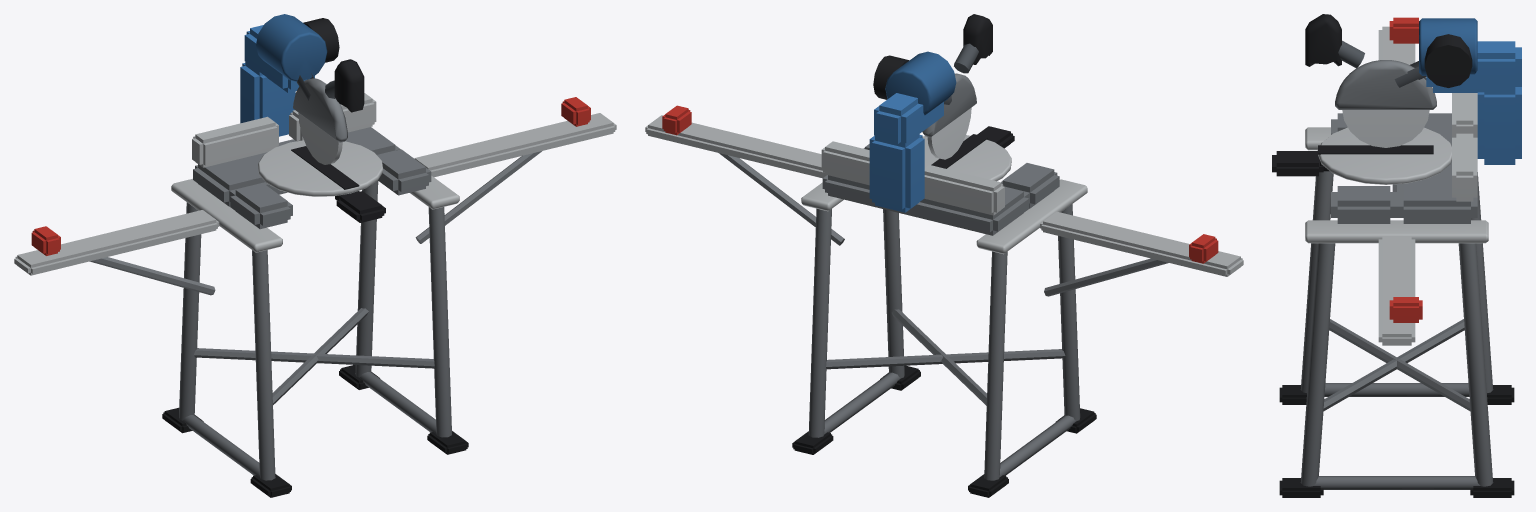
The model's file is SM_MiterSaw_Stand_01.glb.
The picture shows the model from 3 angles, left to right: view 1: azimuth 30°, elevation 25°; view 2: azimuth 150°, elevation 25°; view 3: azimuth 270°, elevation 25°; orthographic projection. The views are drawn at different scales.
Parts seen in each view (by area): view 1: SM_MiterSaw_Stand_01; view 2: SM_MiterSaw_Stand_01; view 3: SM_MiterSaw_Stand_01.
Part boxes in pixels (bbox=[...]): SM_MiterSaw_Stand_01: bbox=[14, 14, 616, 497]; SM_MiterSaw_Stand_01: bbox=[645, 14, 1243, 497]; SM_MiterSaw_Stand_01: bbox=[1272, 14, 1521, 497].
Bounding box in the file's own units: 2 × 1.29 × 0.68.
1 material, 1 textured.
